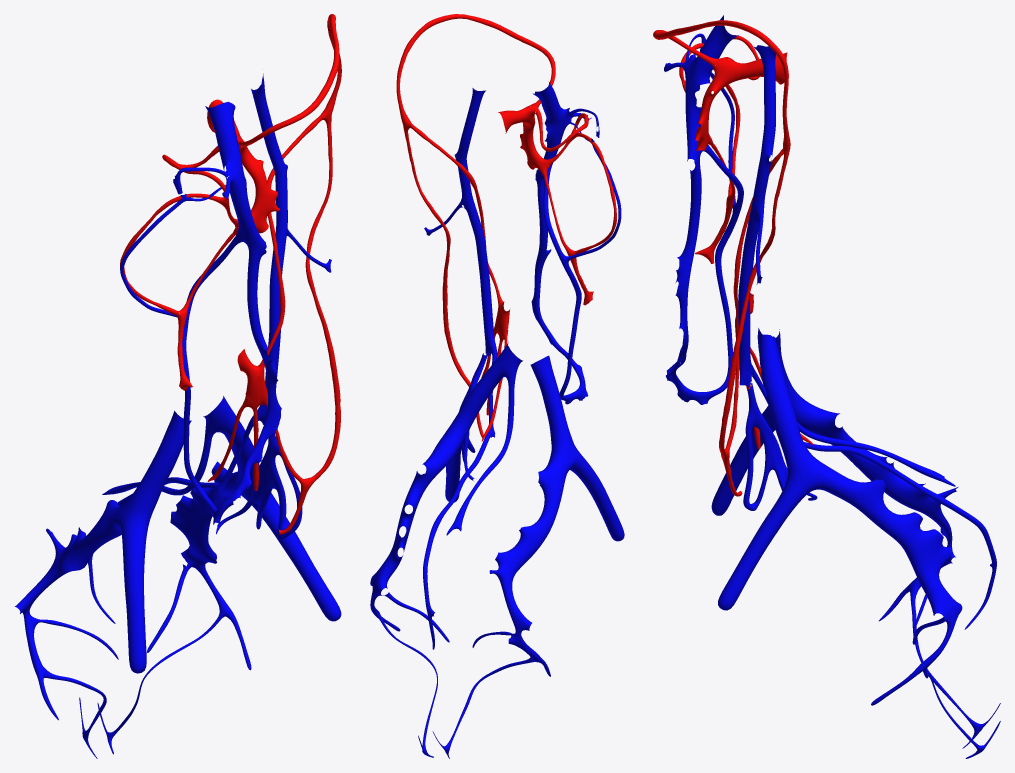
Rendered from VH_M_Large_Intestine_Landmarks.glb.
The picture shows the model from 3 angles, left to right: view 1: azimuth 30°, elevation 25°; view 2: azimuth 150°, elevation 25°; view 3: azimuth 270°, elevation 25°; orthographic projection. The views are drawn at different scales.
Visible parts, largest first — view 1: VH_M_large_intestine_landmark_veins, VH_M_large_intestine_landmark_arteries; view 2: VH_M_large_intestine_landmark_veins, VH_M_large_intestine_landmark_arteries; view 3: VH_M_large_intestine_landmark_veins, VH_M_large_intestine_landmark_arteries.
Part boxes in pixels (box(x1,y1,x2,y2)): VH_M_large_intestine_landmark_veins: box(15, 73, 341, 758); VH_M_large_intestine_landmark_arteries: box(120, 14, 341, 534); VH_M_large_intestine_landmark_veins: box(370, 81, 624, 758); VH_M_large_intestine_landmark_arteries: box(396, 14, 616, 441); VH_M_large_intestine_landmark_veins: box(664, 15, 1000, 758); VH_M_large_intestine_landmark_arteries: box(653, 20, 814, 496).
Size of the model in its own units: 0.133 by 0.4076 by 0.1633.
